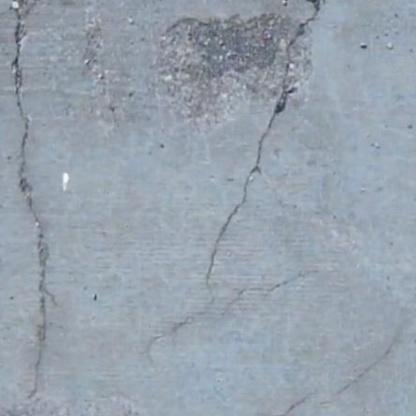Cracks: (140, 0, 333, 373), (228, 260, 416, 416), (4, 0, 61, 413), (0, 156, 5, 197)
